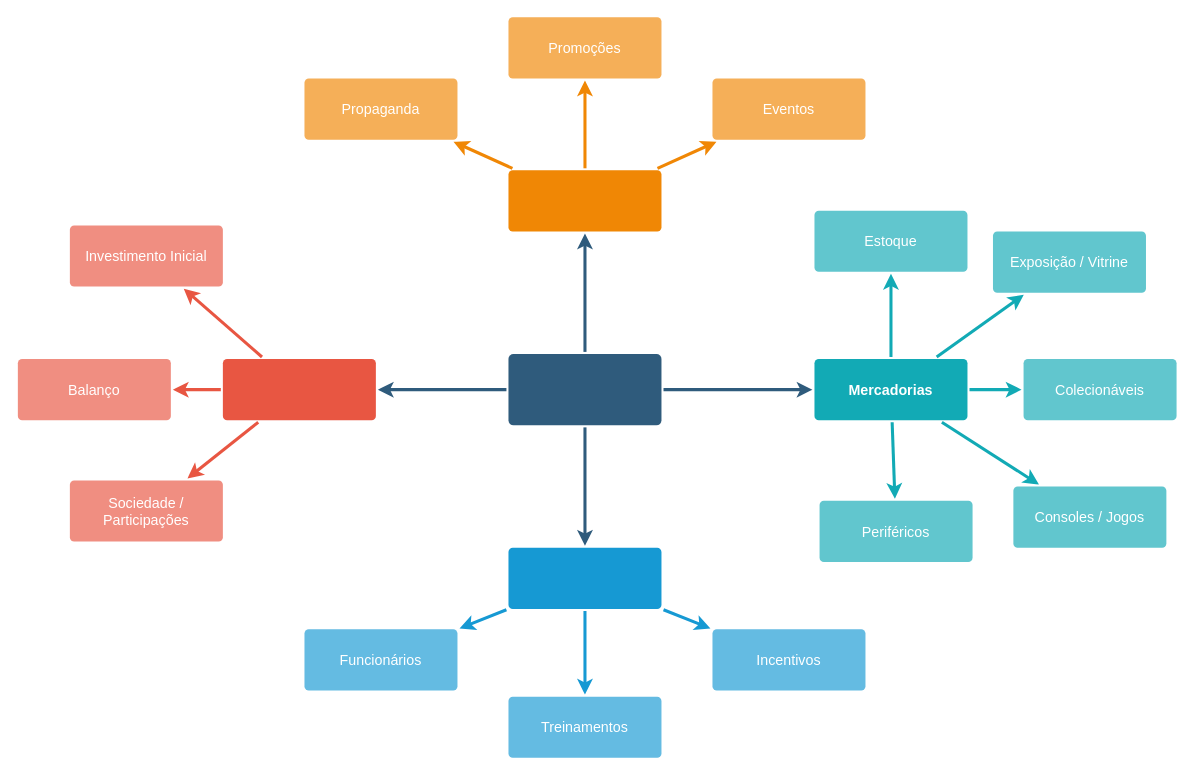
The diagram is 1193 pixels wide and 775 high, and some of its shapes have lost their labels. The centre of each missing label's shape, as x and y in pixels:
Financeiro: (298,389)
Loja Jogos Eletrônicos: (584,389)
Marketing: (584,200)
Recursos Humanos: (584,577)
